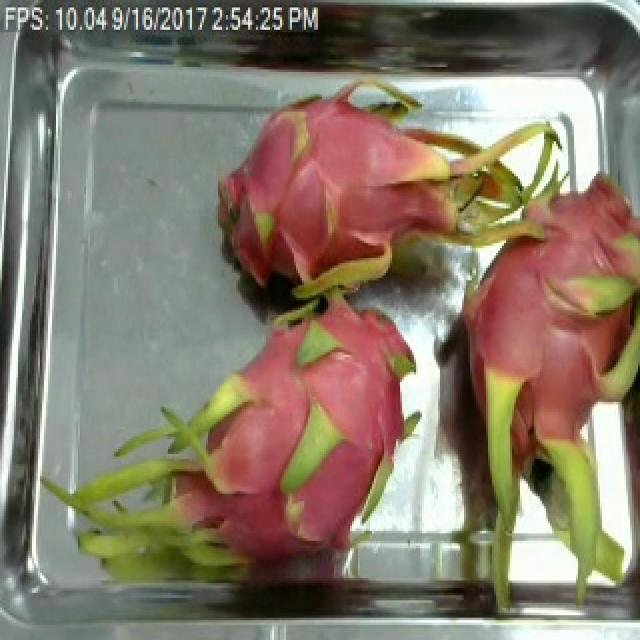Fruit: (192, 370, 330, 511)
